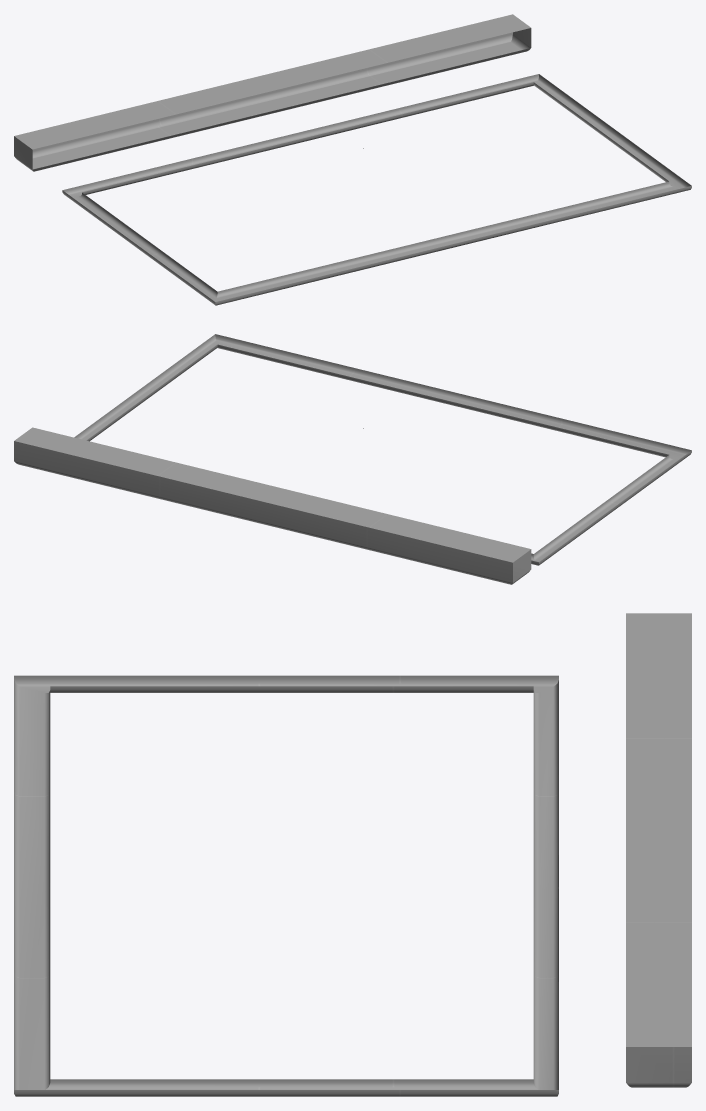
File: MeshTelevision_2_0_GeomSubset_1.obj
The picture shows the model from 3 angles, top to bottom: view 1: azimuth 30°, elevation 25°; view 2: azimuth 150°, elevation 25°; view 3: azimuth 270°, elevation 25°; orthographic projection. The views are drawn at different scales.
Visible parts, largest first — view 1: MeshTelevision_2_0_GeomSubset_1; view 2: MeshTelevision_2_0_GeomSubset_1; view 3: MeshTelevision_2_0_GeomSubset_1.
Part boxes in pixels (x1=…): MeshTelevision_2_0_GeomSubset_1: x1=14, y1=14, x2=691, y2=305; MeshTelevision_2_0_GeomSubset_1: x1=14, y1=334, x2=691, y2=584; MeshTelevision_2_0_GeomSubset_1: x1=14, y1=613, x2=691, y2=1096.
Bounding box in the file's own units: 1.21 × 0.0807 × 0.7976.
